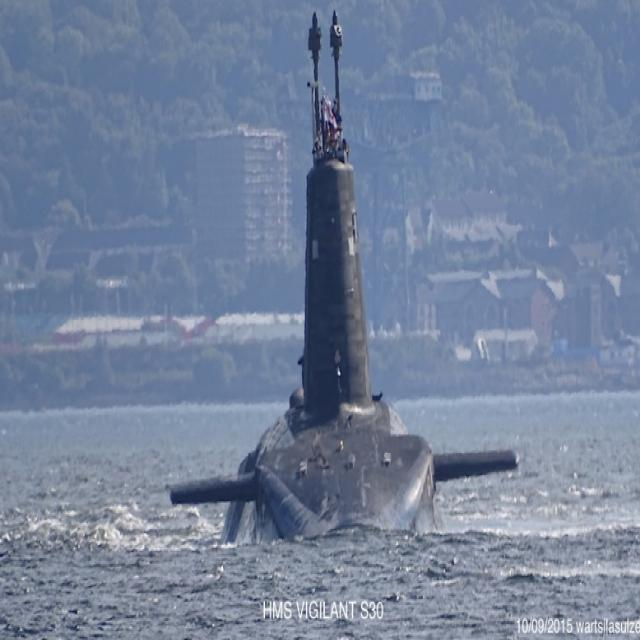submarine: (170, 10, 521, 542)
